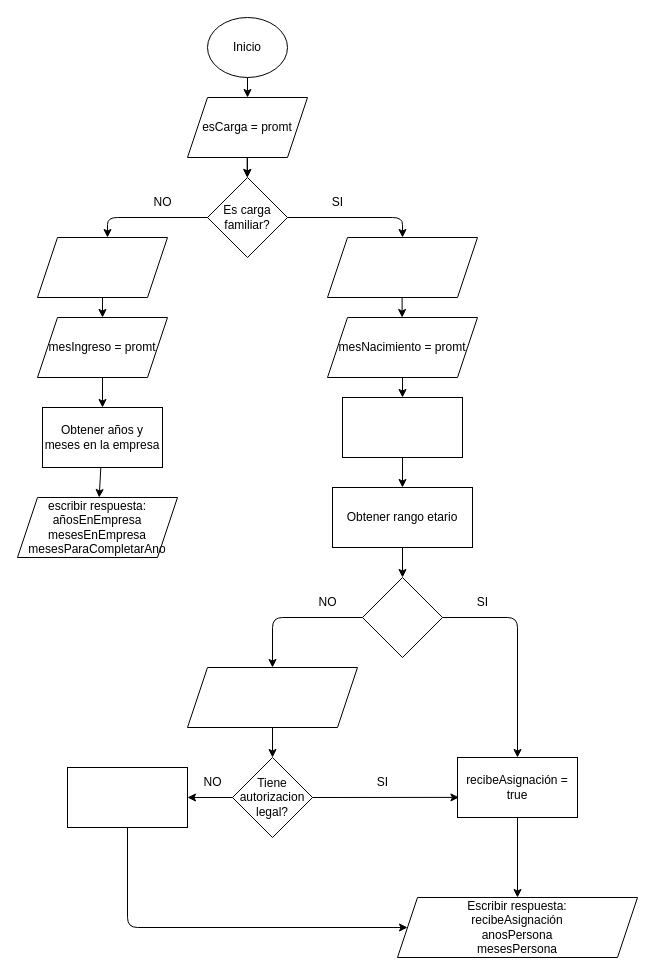
Some shapes in this 655 by 975 pixel diagram are drawn without their labels. Here are the shapes that lost their labels. From the top down, the box of each, then its label:
(36, 236, 168, 298): añoIngreso = promt
(326, 236, 478, 298): anoNacimiento = promt
(342, 396, 462, 458): Obtener añosPersona y mesesPersona
(362, 576, 442, 658): Recibe asignación
(186, 666, 358, 728): tieneAutorizacionLegal = prompt
(66, 766, 188, 828): recibeAsignación = false
